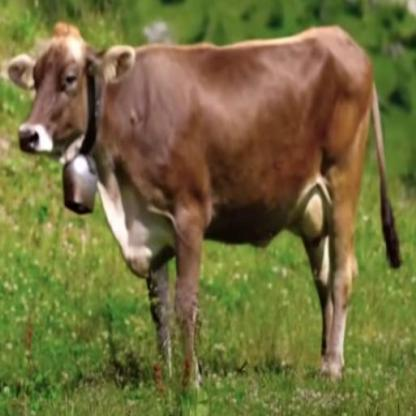cow: (9, 29, 374, 391)
